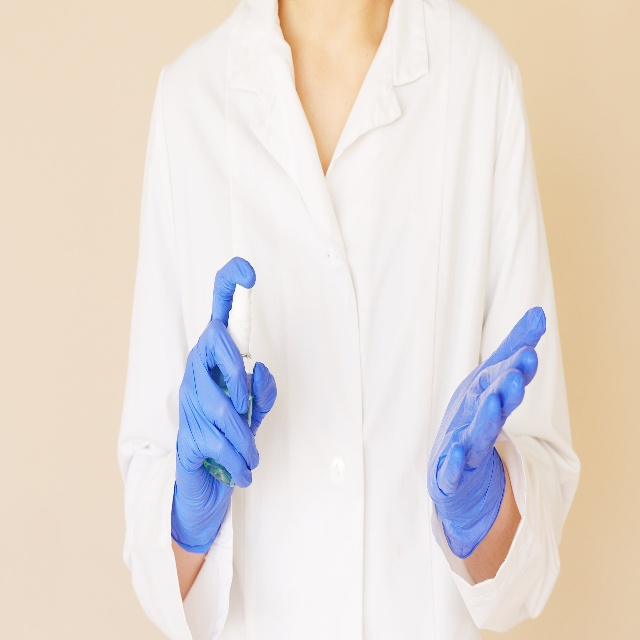Guantes: (170, 256, 282, 555), (426, 296, 544, 556)
